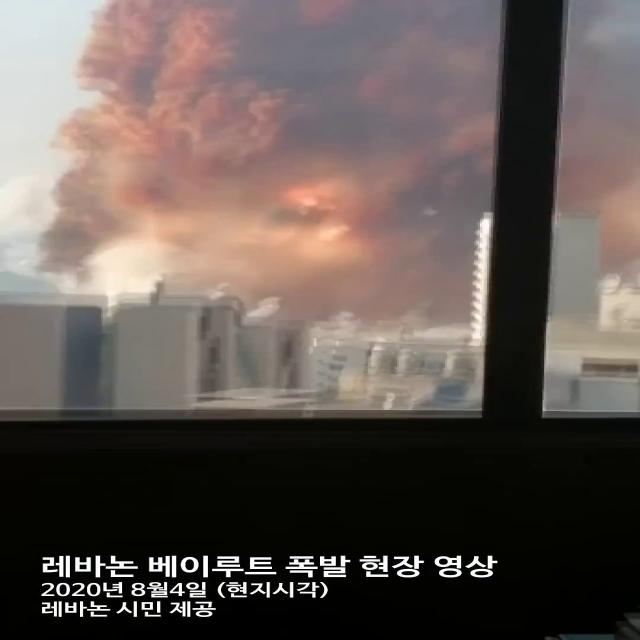explosion: (7, 0, 640, 377)
